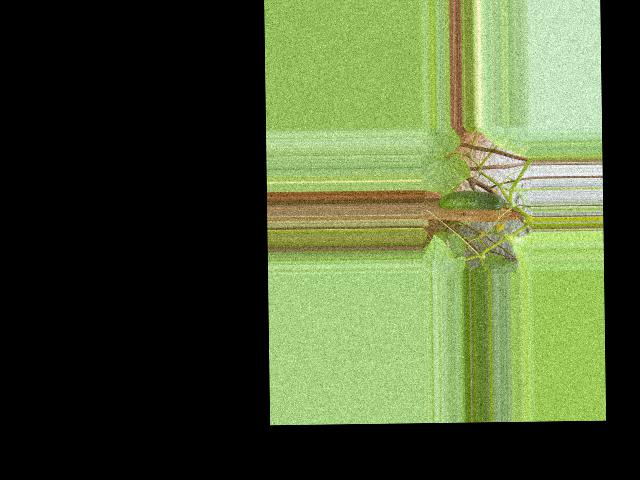cucumber: (437, 190, 503, 211)
